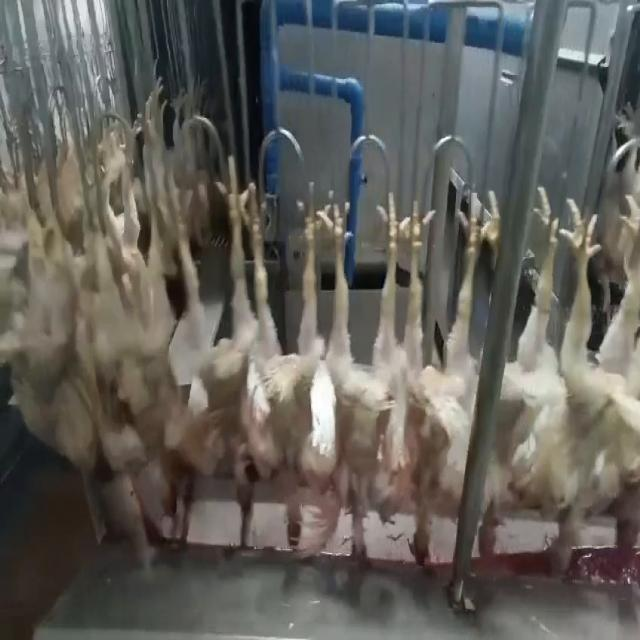chicken: (382, 192, 490, 568), (158, 145, 252, 514), (506, 192, 595, 562), (316, 189, 399, 558), (254, 188, 324, 562), (74, 166, 153, 470), (598, 130, 639, 556)
